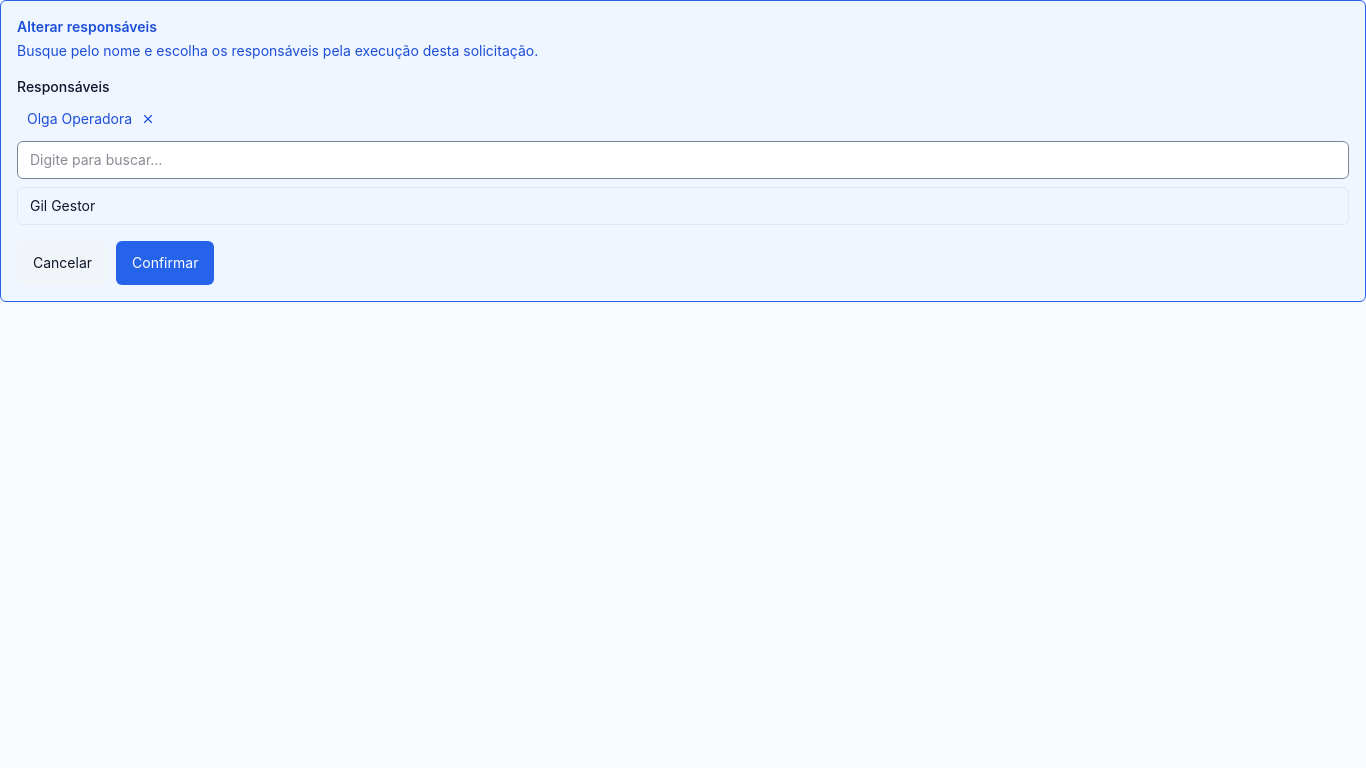
Test: ResponsaveisAction › deve confirmar com o aviso Responsáveis atualizados quando a ação dá certo
This screenshot has width=1366, height=768.
What coordinates should you click on to do the following:
click the button "Confirmar"
I would click on:
 (165, 263)
Its box is [116,241,214,285].
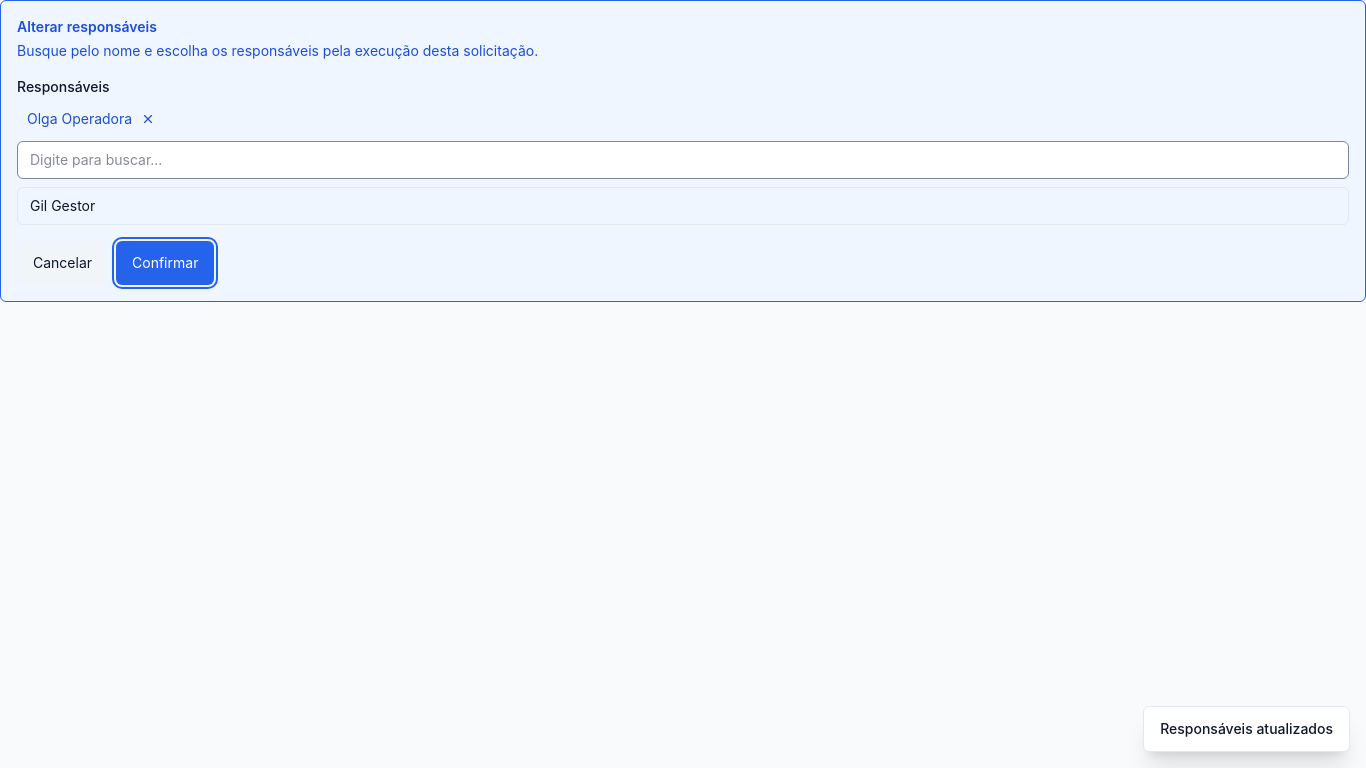
Check: the text "Responsáveis atualizados" is shown, box [1143,706,1350,752]
